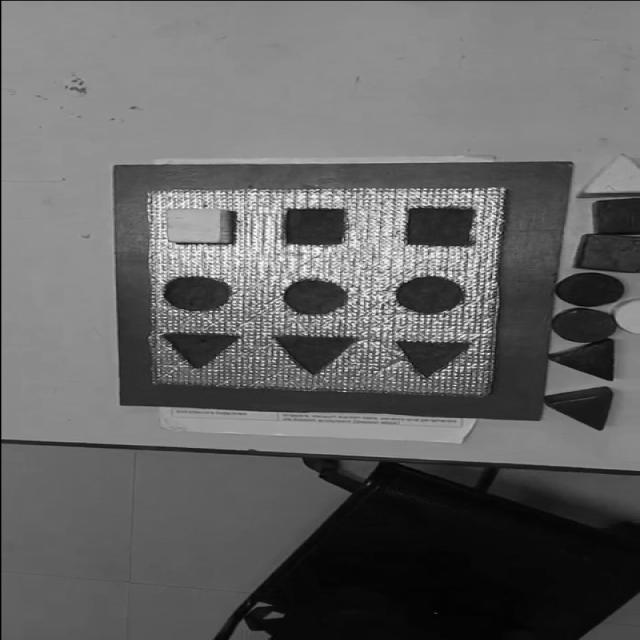bcircle: (554, 272, 625, 308)
bcube: (592, 198, 640, 235)
btriangle: (548, 339, 616, 381)
mtcircle: (392, 275, 467, 315), (282, 278, 349, 315), (163, 276, 231, 311)
mtcube: (403, 205, 479, 248), (284, 207, 350, 246)
mttriangle: (272, 334, 361, 376), (393, 339, 471, 380), (160, 332, 238, 369)
rcircle: (550, 306, 616, 342)
rcube: (571, 233, 639, 275)
rtriangle: (544, 386, 615, 430)
wb: (140, 186, 506, 396)
ycircle: (610, 297, 639, 335)
ycube: (162, 207, 236, 245)
ytriangle: (578, 154, 640, 198)
